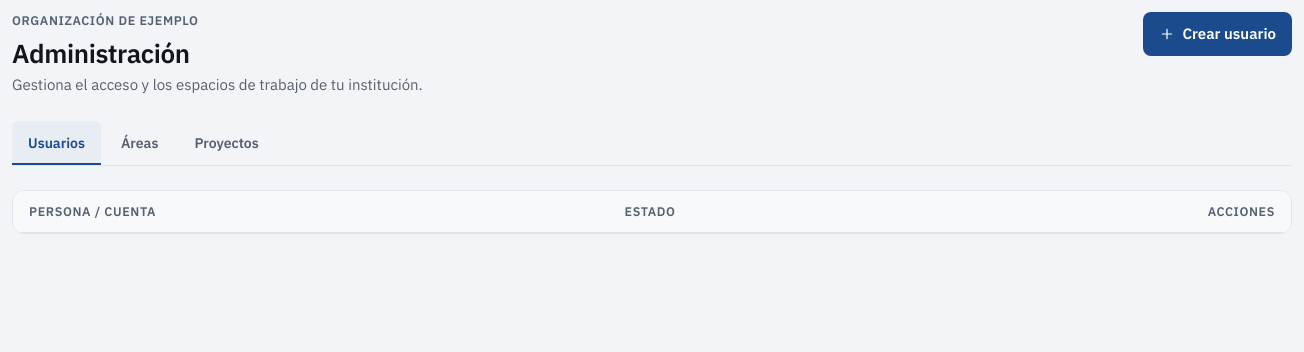
Test: sin proyectos, la pestaña dice cómo crear el primero
Step 1. Click the button "Proyectos" → (227, 143), box [178,121,275,165]
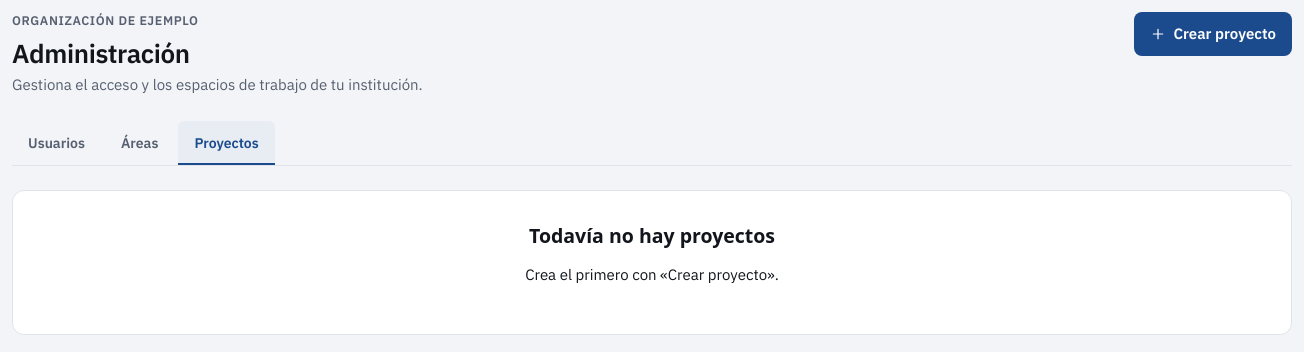
Expected: the heading "Todavía no hay proyectos" is shown, [529,222,775,249]
Expected: the text "Crea el primero con «Crear proyecto»." is shown, [525,265,779,284]
